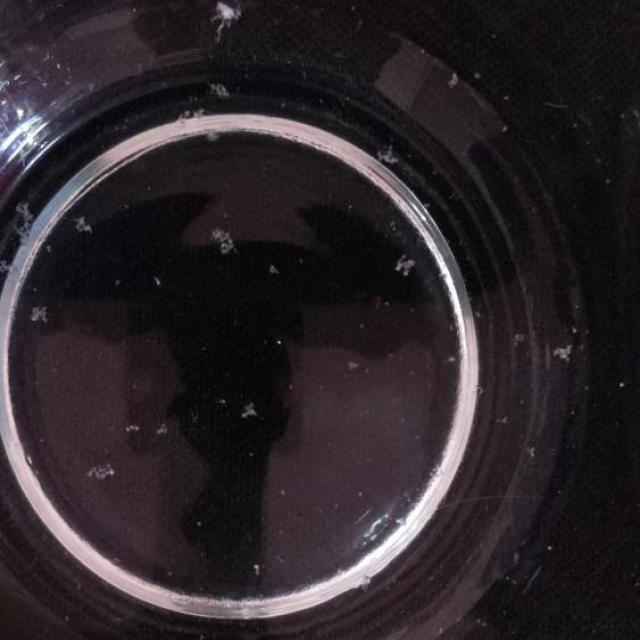fiber: (6, 190, 38, 252), (232, 394, 267, 428), (389, 244, 415, 286), (213, 0, 242, 36), (209, 77, 234, 118), (204, 225, 234, 258), (0, 254, 25, 291), (552, 335, 576, 367), (83, 461, 118, 482), (25, 304, 50, 332), (376, 140, 399, 170), (75, 205, 92, 242), (120, 417, 146, 440), (150, 266, 172, 291), (246, 559, 266, 583), (442, 66, 457, 94), (154, 416, 170, 441)
